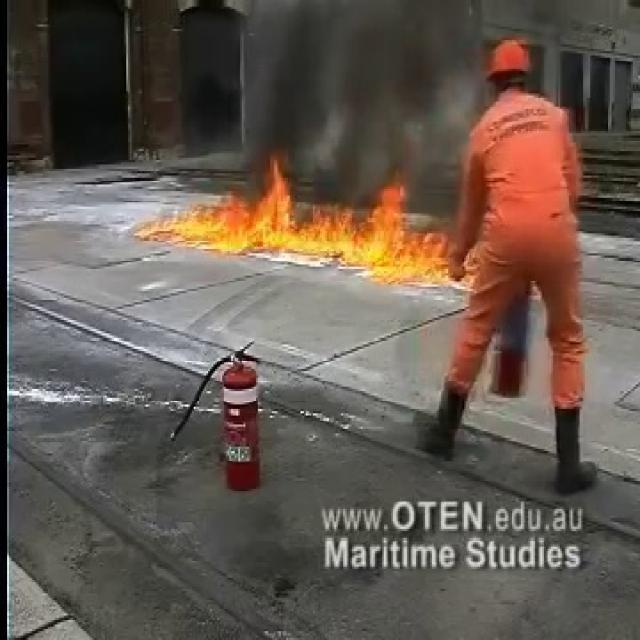Fire: (138, 163, 454, 281)
Smoke: (231, 3, 474, 156)
